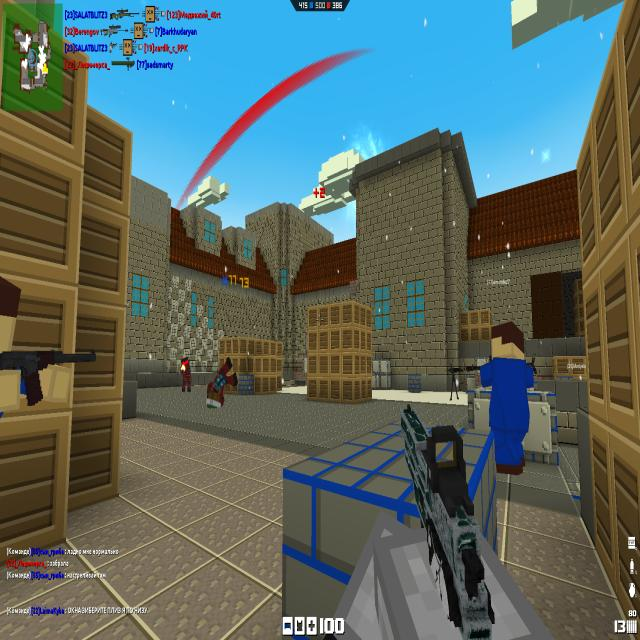player: (481, 325, 538, 475), (207, 356, 236, 408), (180, 357, 192, 391)
